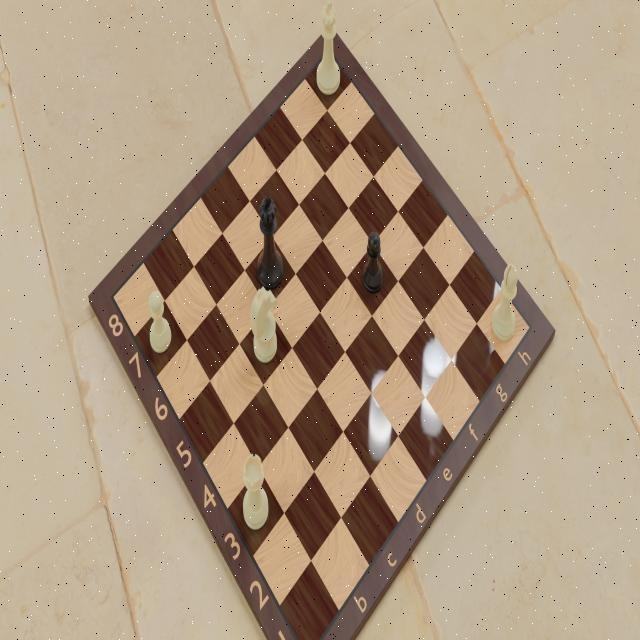black-king: (254, 195, 285, 291)
black-pawn: (359, 229, 386, 295)
white-bishop: (490, 261, 520, 347)
white-king: (313, 0, 342, 96)
white-knight: (249, 284, 279, 364)
white-pawn: (146, 286, 174, 357)
white-rook: (241, 451, 271, 532)
